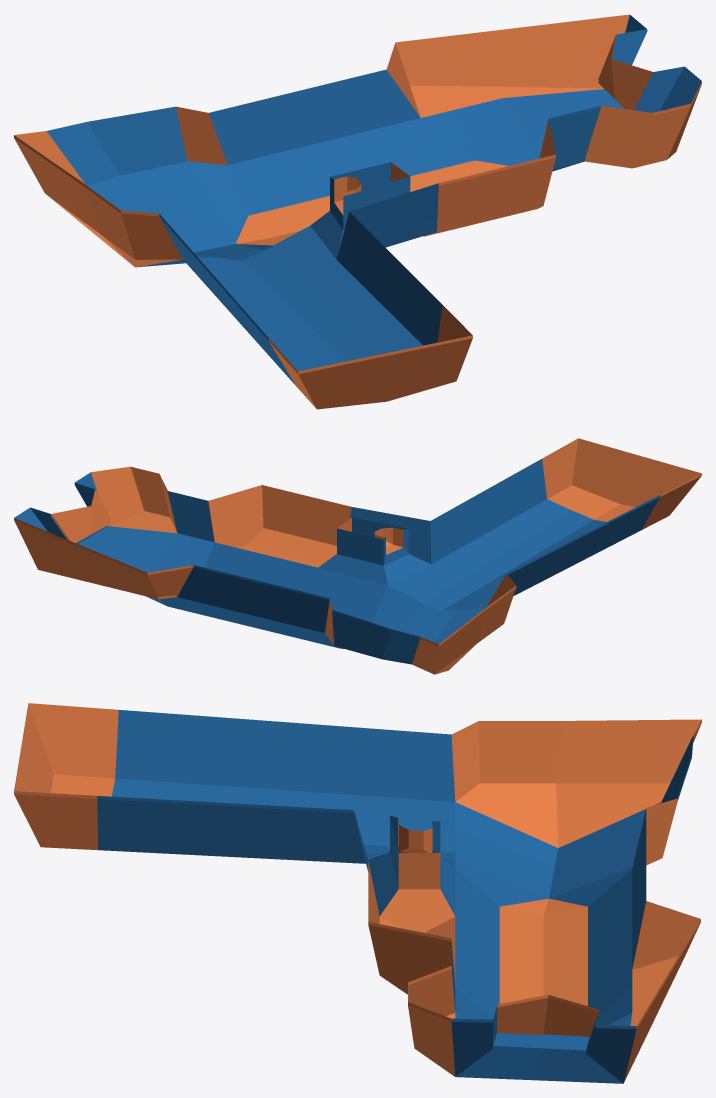
File: Gun 1 - Bot.fbx
The picture shows the model from 3 angles, top to bottom: view 1: azimuth 30°, elevation 25°; view 2: azimuth 150°, elevation 25°; view 3: azimuth 270°, elevation 25°; orthographic projection. The views are drawn at different scales.
Parts seen in each view (by area): view 1: Gun 1 - Bot; view 2: Gun 1 - Bot; view 3: Gun 1 - Bot.
Part boxes in pixels (box(x1,y1,x2,y2)): Gun 1 - Bot: box(14, 14, 701, 409); Gun 1 - Bot: box(14, 438, 701, 674); Gun 1 - Bot: box(14, 703, 701, 1083).
Bounding box in the file's own units: 861 × 130 × 777.
